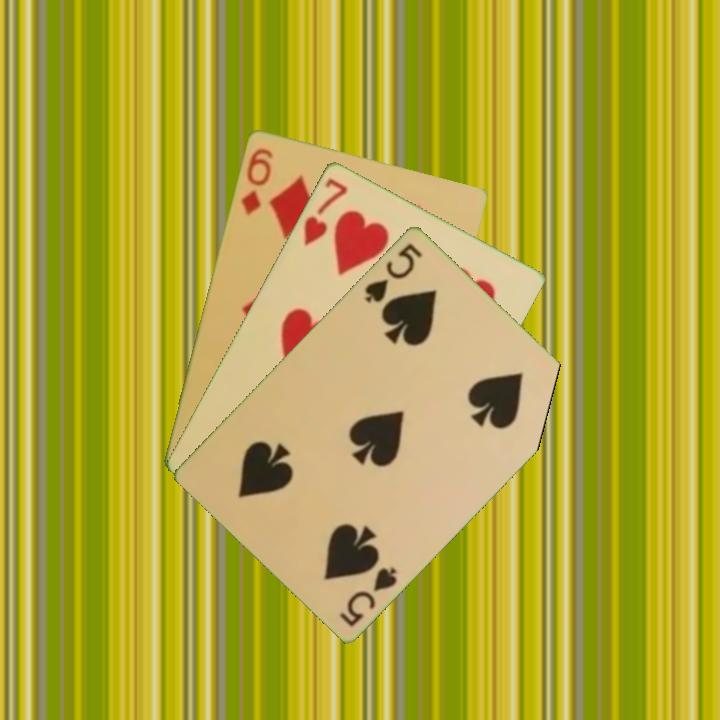5s: (335, 562, 400, 630), (361, 238, 426, 305)
6d: (237, 144, 277, 218)
7h: (299, 173, 351, 248)
